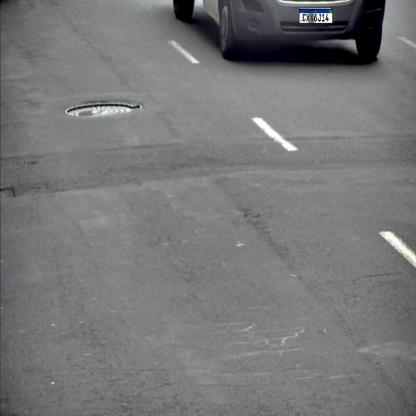PlacaM: (299, 9, 333, 24)
